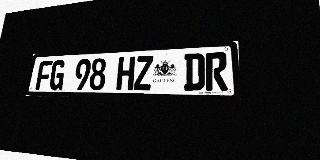8: (88, 58, 107, 90)
9: (73, 59, 92, 90)
D: (184, 53, 205, 90)
F: (35, 60, 53, 90)
G: (48, 60, 66, 90)
H: (116, 56, 135, 90)
R: (205, 52, 228, 91)
Z: (134, 55, 153, 90)
